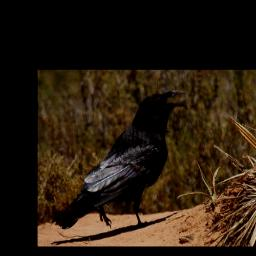Crow: (50, 90, 186, 230)
